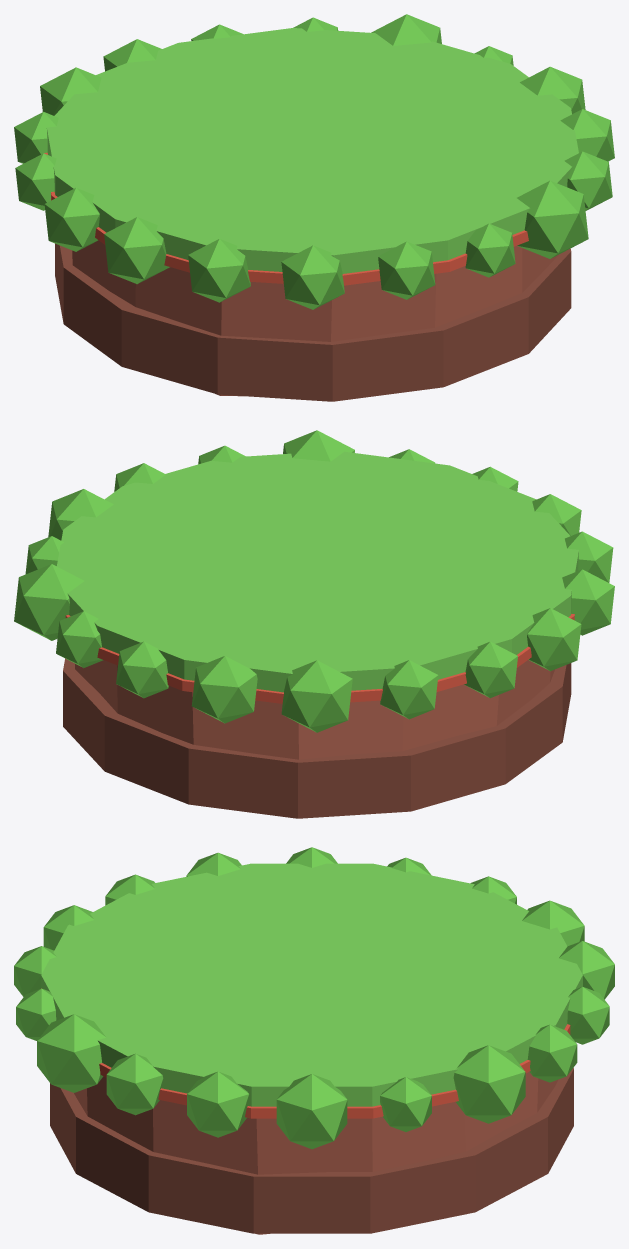
File: Mesa.fbx
3 renders of one model, top to bottom at view 1: azimuth 30°, elevation 25°; view 2: azimuth 150°, elevation 25°; view 3: azimuth 270°, elevation 25°, orthographic.
Visible parts, largest first — view 1: Mesa; view 2: Mesa; view 3: Mesa.
Boxes of the visible parts, x1,y1,x2,y2 form: Mesa: (14, 14, 614, 401); Mesa: (14, 430, 614, 818); Mesa: (14, 847, 614, 1234).
Bounding box in the file's own units: 49.09 × 15.17 × 47.7.
1 material, 1 textured.
